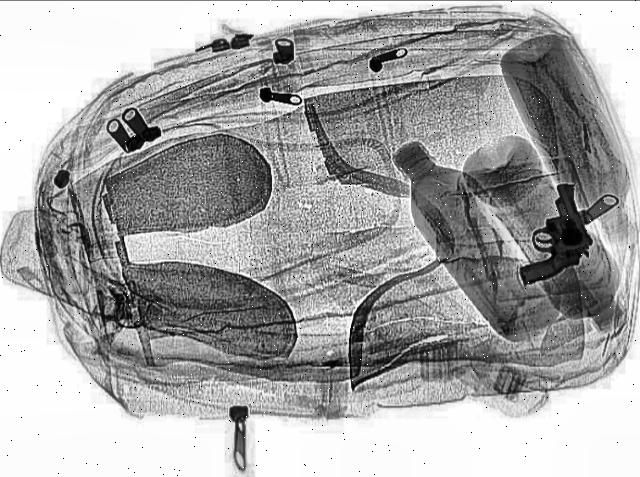Gun: (499, 181, 603, 285)
